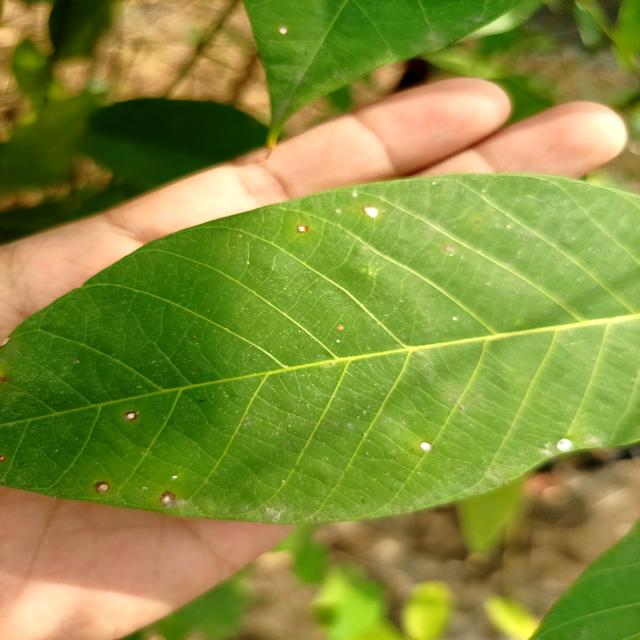Colletotrichum: (94, 481, 110, 493), (125, 411, 138, 420), (296, 225, 308, 233), (0, 455, 6, 462)
